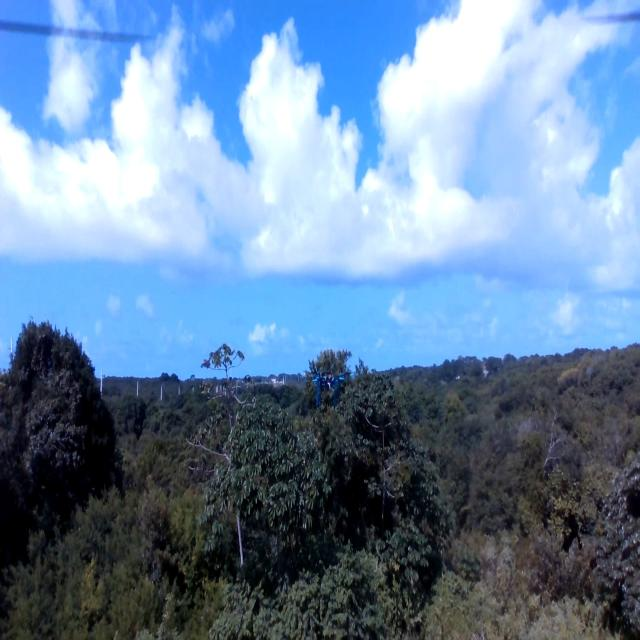-uav-: (303, 366, 347, 403)
